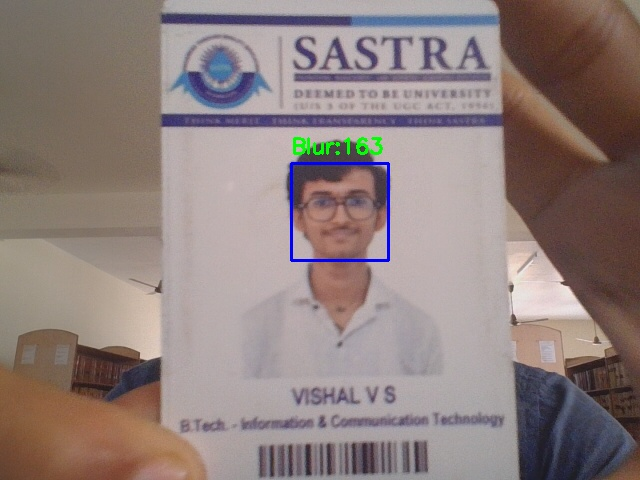fake: (291, 163, 388, 260)
